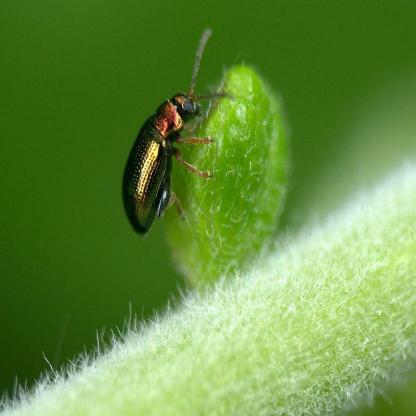beetle: (120, 29, 221, 233)
